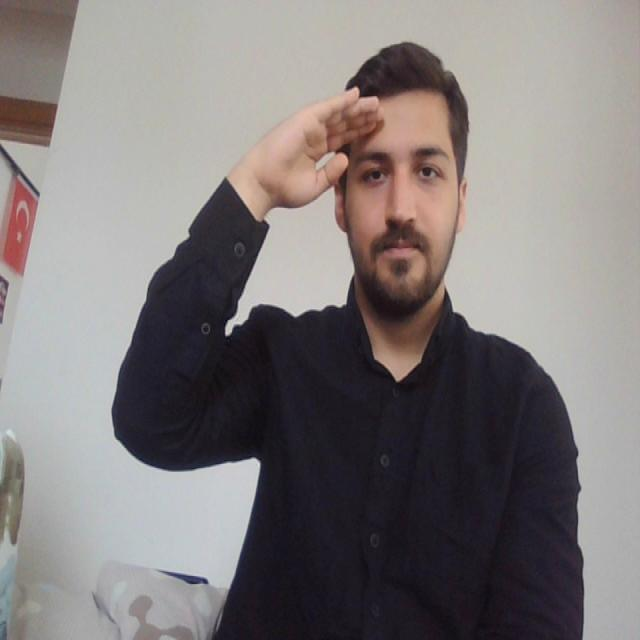Merhaba: (250, 57, 388, 261)
